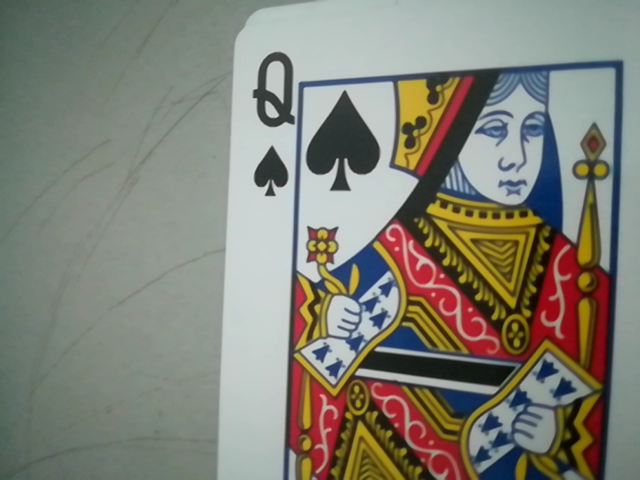ht q: (236, 35, 304, 199)
